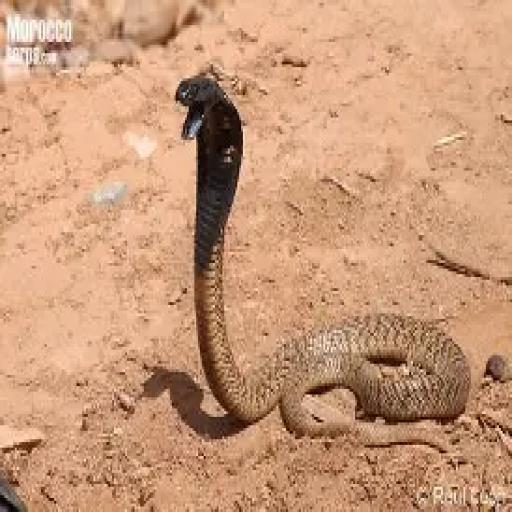snake: (176, 76, 471, 448)
